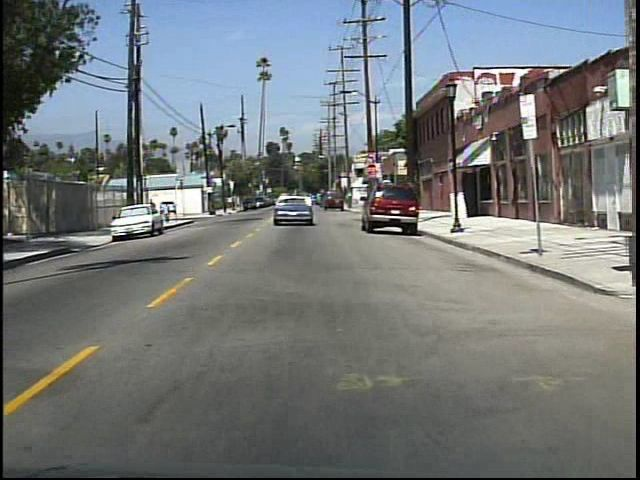person: (145, 196, 159, 226), (164, 200, 174, 225)
